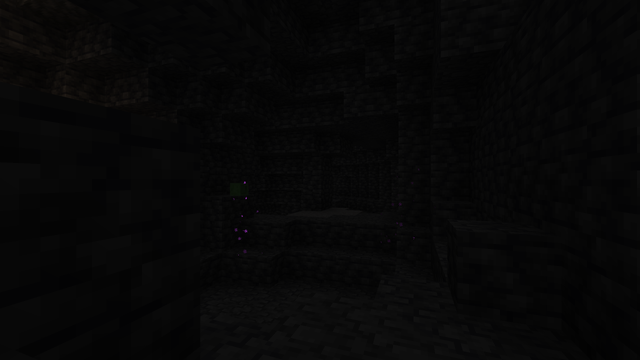slimes: (229, 182, 248, 195)
